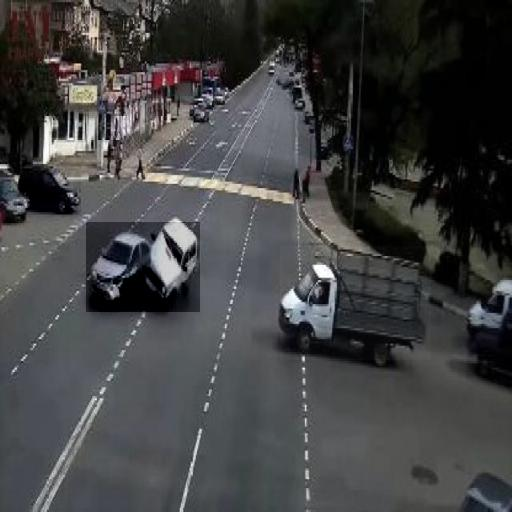小汽车: (280, 246, 431, 360), (18, 163, 81, 215)
小汽车撞小汽车: (86, 222, 200, 312)
